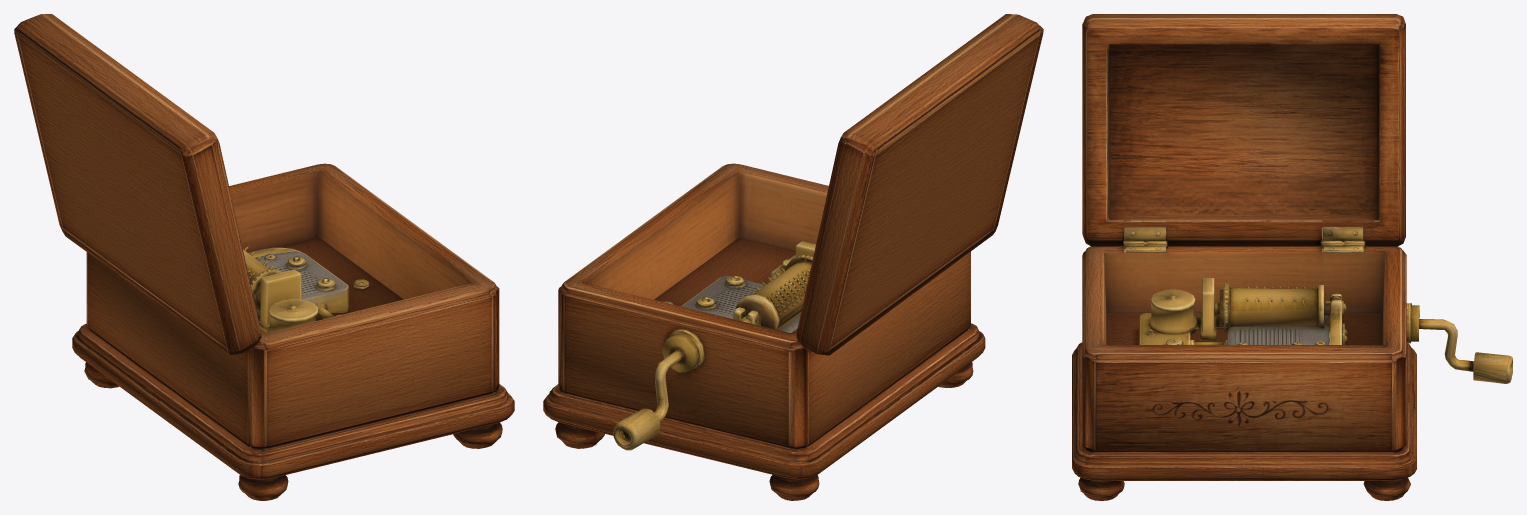
The model's file is tripo_convert_25449ec3-75e8-48ee-913a-eddc9aab711b.fbx.
The picture shows the model from 3 angles, left to right: view 1: azimuth 30°, elevation 25°; view 2: azimuth 150°, elevation 25°; view 3: azimuth 270°, elevation 25°; orthographic projection. The views are drawn at different scales.
Parts seen in each view (by area): view 1: tripo_node_25449ec3; view 2: tripo_node_25449ec3; view 3: tripo_node_25449ec3.
Boxes of the visible parts, x1,y1,x2,y2 form: tripo_node_25449ec3: [14, 14, 514, 500]; tripo_node_25449ec3: [543, 14, 1043, 500]; tripo_node_25449ec3: [1072, 14, 1512, 500].
Size of the model in its own units: 80.27 by 99.8 by 87.7.
